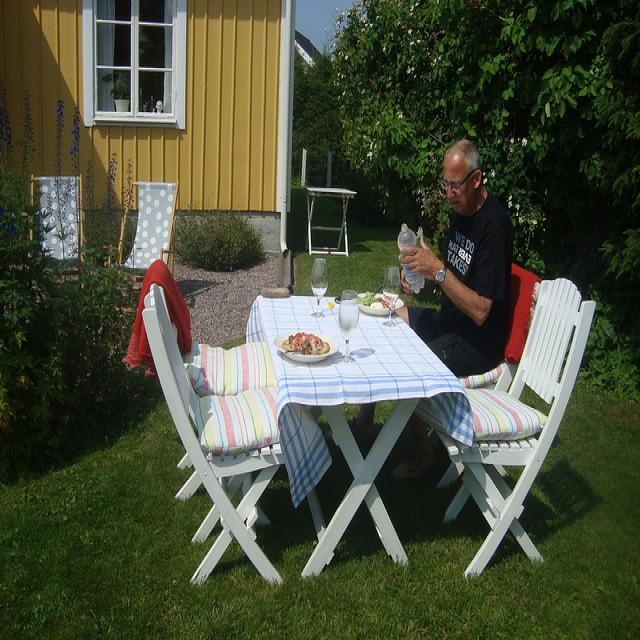chair: (445, 284, 596, 579), (142, 282, 286, 590), (151, 255, 277, 501), (458, 261, 537, 387), (117, 179, 180, 281), (28, 174, 88, 261), (304, 184, 357, 255)
dining table: (243, 291, 479, 580)
